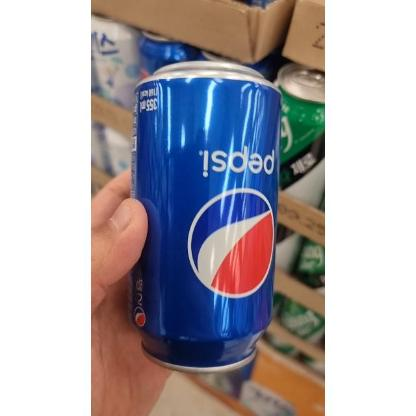Can: (133, 59, 283, 376)
